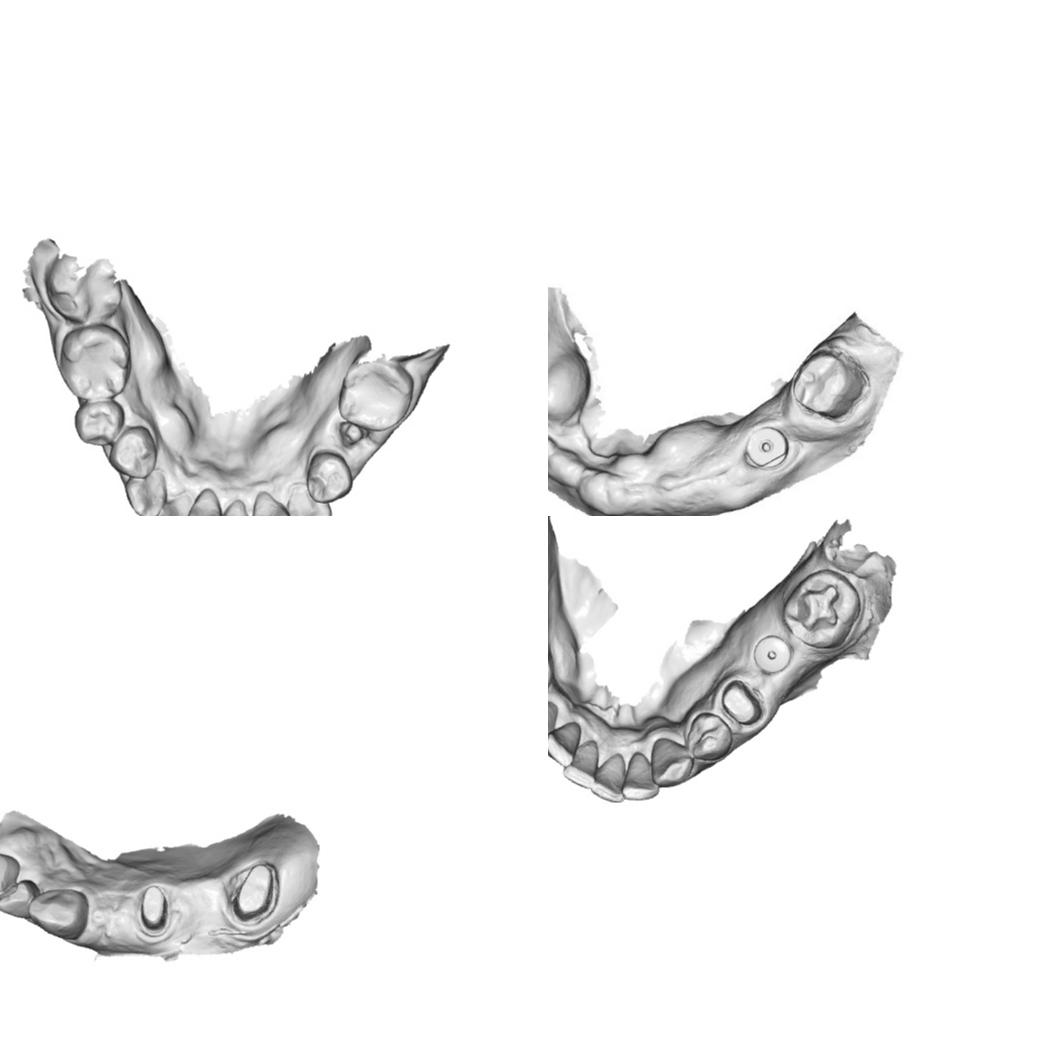canine: (26, 886, 90, 940), (648, 736, 694, 788), (122, 468, 168, 516), (285, 481, 333, 516), (548, 699, 560, 750)
crown: (790, 348, 870, 422), (231, 861, 275, 922), (718, 678, 764, 728), (139, 882, 170, 934)
implant: (741, 423, 792, 471), (751, 632, 792, 676)
incisor: (562, 739, 600, 793), (621, 750, 660, 802), (592, 750, 626, 804), (548, 719, 582, 769), (0, 878, 41, 919), (251, 488, 293, 516), (184, 487, 223, 516), (0, 849, 19, 902), (156, 493, 195, 516), (219, 497, 256, 516)
inlay: (787, 582, 842, 636)
molar: (337, 352, 415, 432), (56, 323, 132, 401)
premolar: (108, 424, 158, 480), (305, 450, 356, 503), (72, 396, 124, 447), (684, 712, 734, 762)
